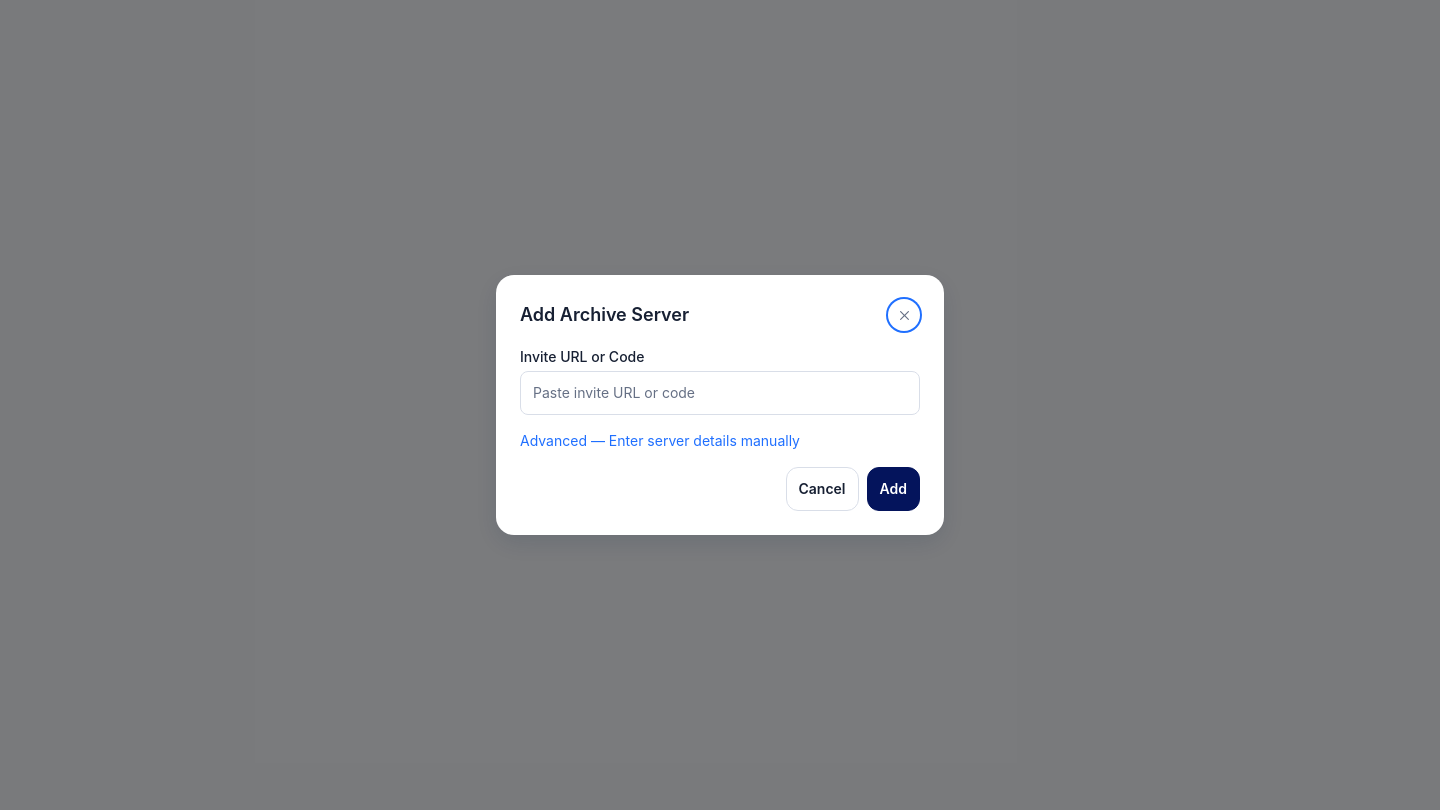
Scenario: AddArchiveServerDialog › clicking "Advanced" toggle again hides manual fields and shows invite URL field
Toggle to advanced
Click the button with test id "advanced-toggle" at [720, 441], box [520,431,920,451]
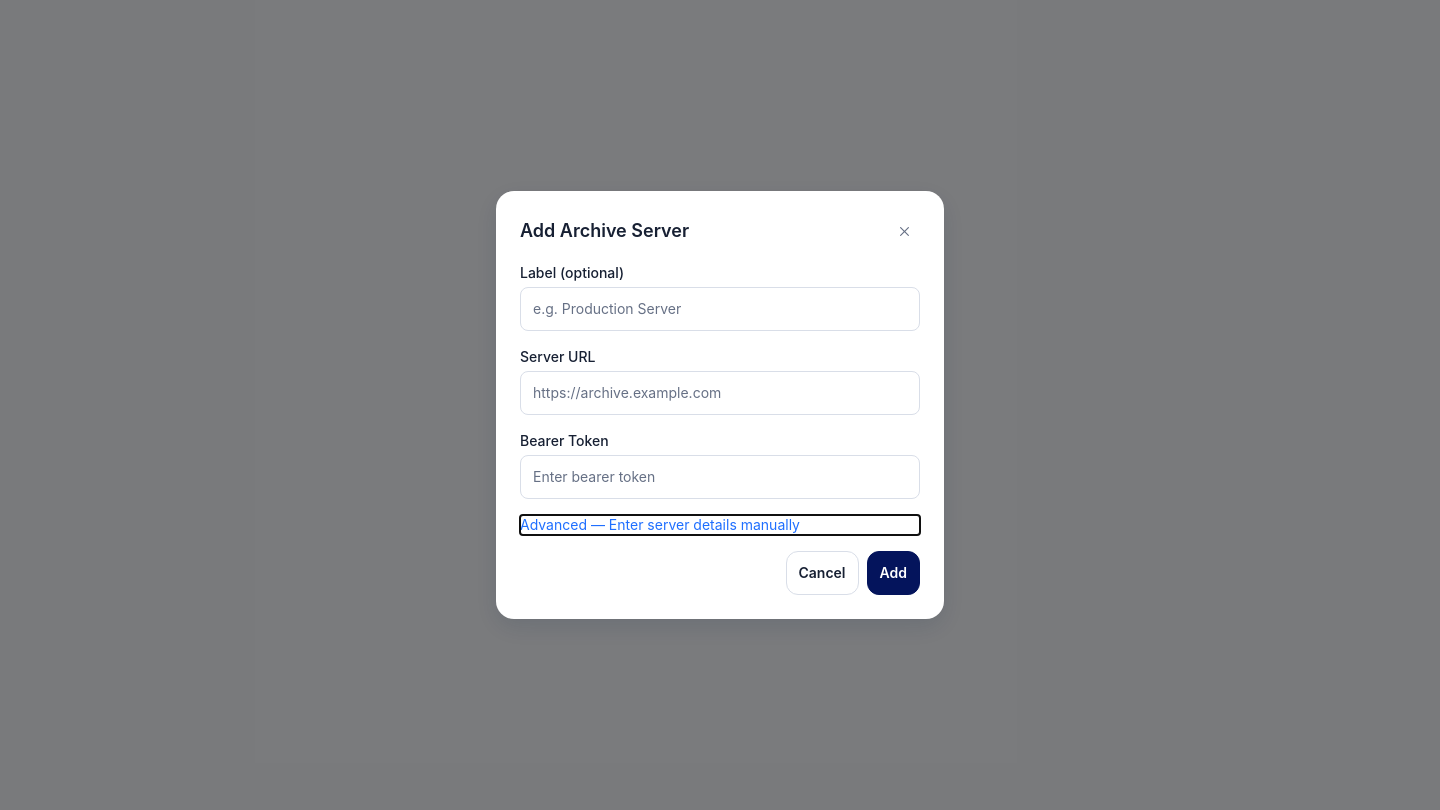
Now the field labelled "Server URL" is shown, box [520,371,920,415]
Toggle back to invite URL mode
Click the button with test id "advanced-toggle" at [720, 525], box [520,515,920,535]
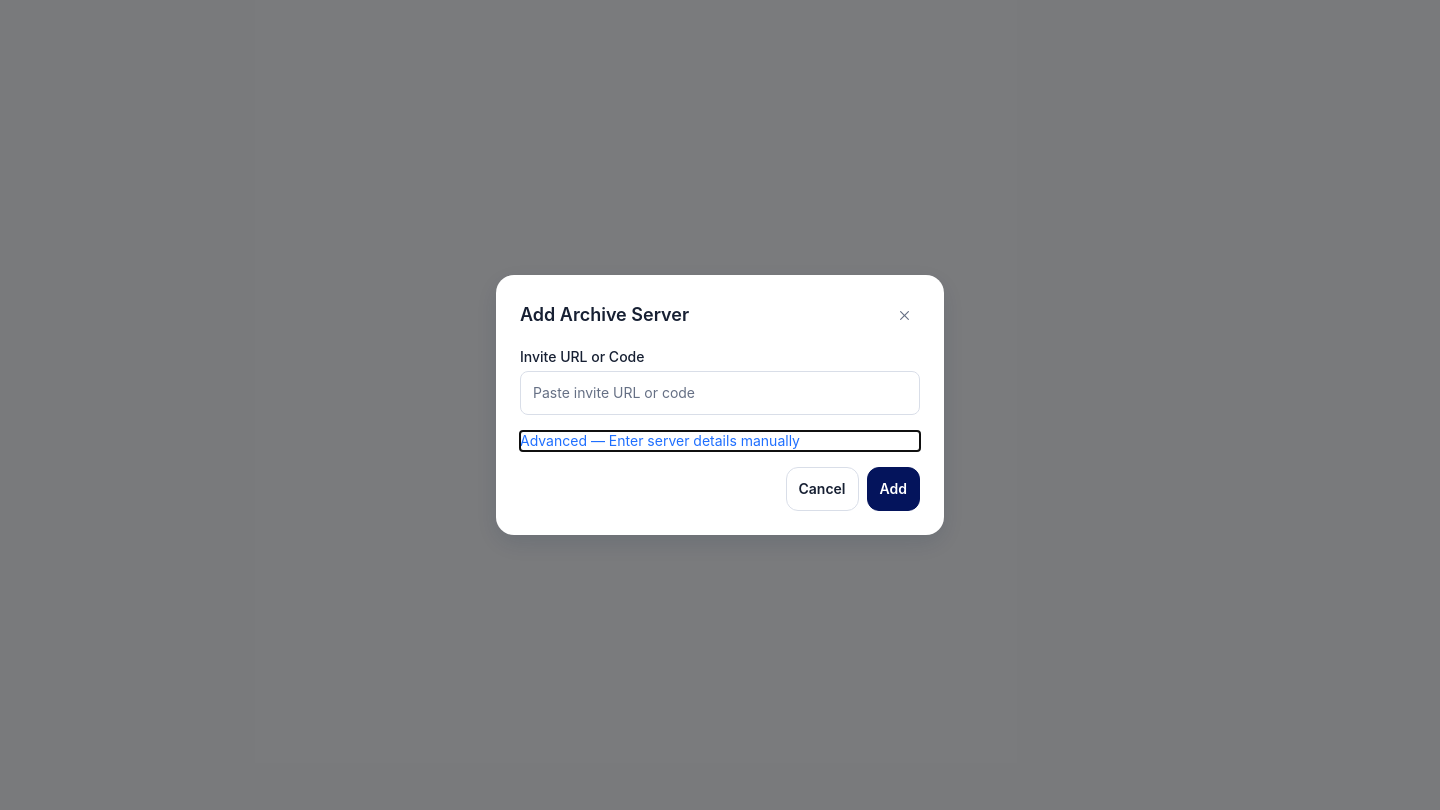
Now the field labelled "Invite URL or Code" is shown, box [520,371,920,415]
Now the label labelled "Server URL" is gone
